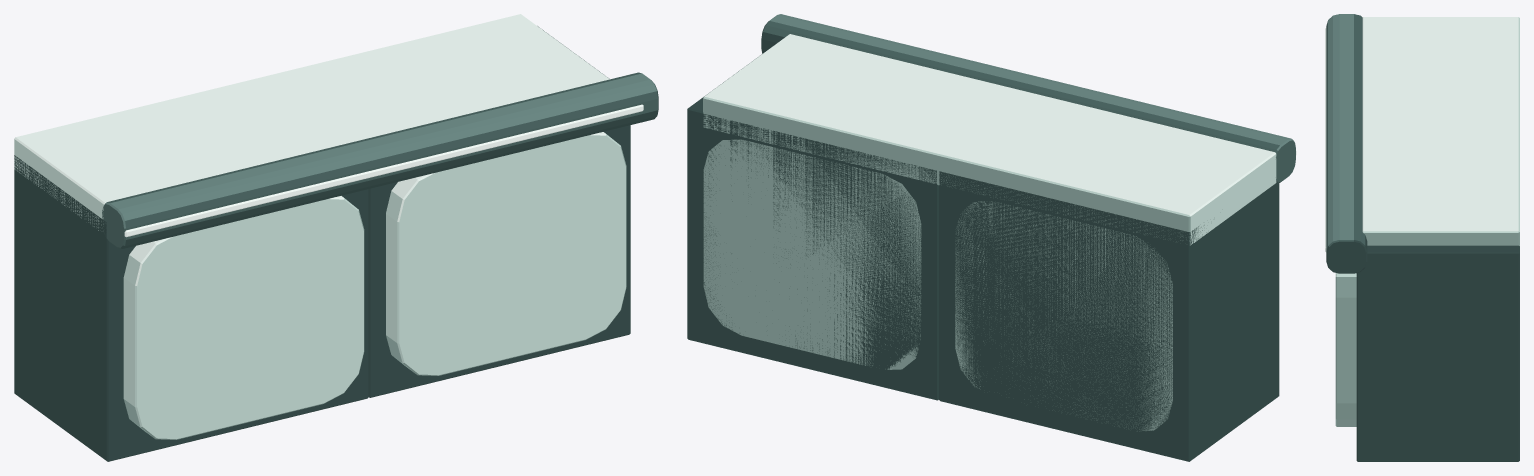
File: Terrain_TopRun2R.gltf
The picture shows the model from 3 angles, left to right: view 1: azimuth 30°, elevation 25°; view 2: azimuth 150°, elevation 25°; view 3: azimuth 270°, elevation 25°; orthographic projection. The views are drawn at different scales.
Parts seen in each view (by area): view 1: Terrain_TopRun2R_baked; view 2: Terrain_TopRun2R_baked; view 3: Terrain_TopRun2R_baked.
Boxes of the visible parts, <box> form: Terrain_TopRun2R_baked: <box>14,14,658,461</box>; Terrain_TopRun2R_baked: <box>687,14,1296,461</box>; Terrain_TopRun2R_baked: <box>1325,14,1519,461</box>.
Size of the model in its own units: 2.04 by 0.9495 by 0.74.
